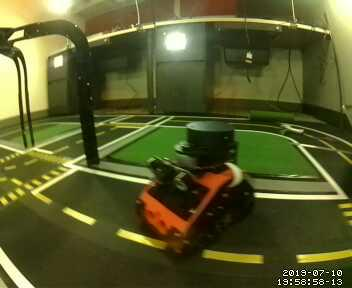pheeno: (135, 114, 254, 258)
